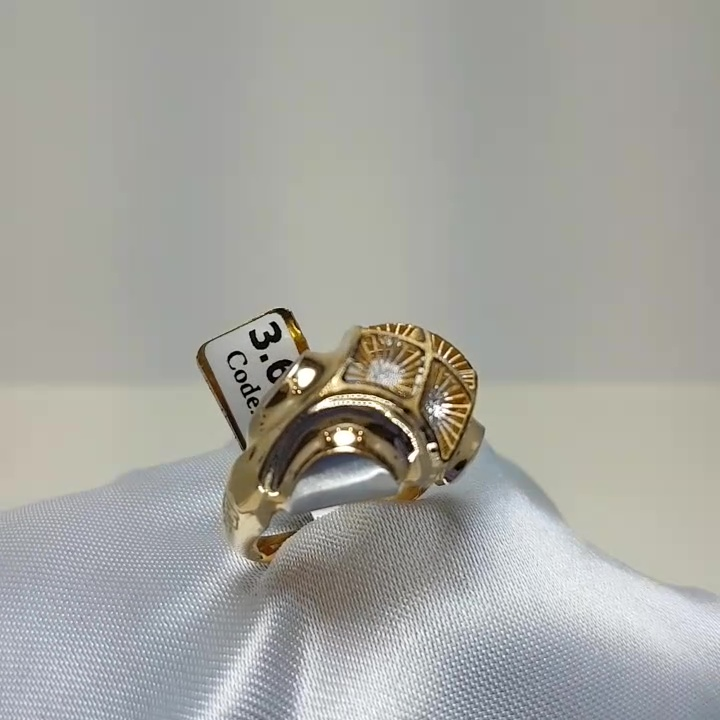Ring 2: (192, 307, 529, 580)
